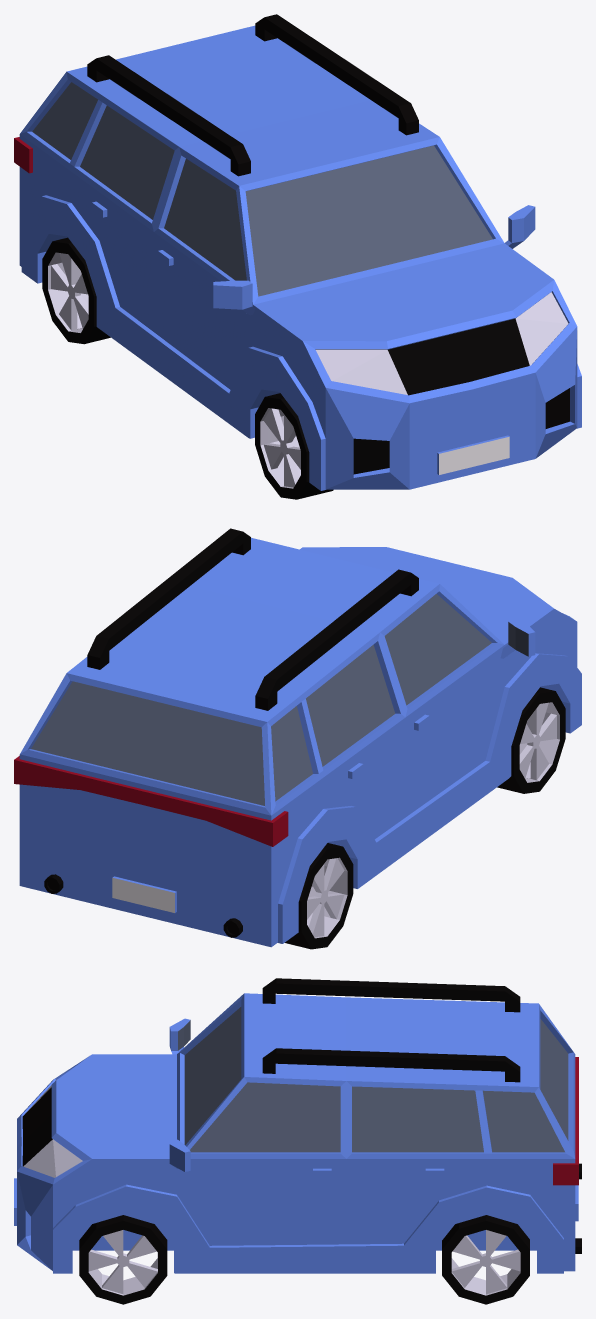
3 renders of one model, top to bottom at view 1: azimuth 30°, elevation 25°; view 2: azimuth 150°, elevation 25°; view 3: azimuth 270°, elevation 25°, orthographic. The views are drawn at different scales.
Parts seen in each view (by area): view 1: SUV, SUV wheel front right, SUV wheel rear right; view 2: SUV, SUV wheel rear right, SUV wheel front right; view 3: SUV, SUV wheel front left, SUV wheel rear left.
Boxes of the visible parts, x1,y1,x2,y2 form: SUV: (14,14,581,490); SUV wheel front right: (255,393,333,499); SUV wheel rear right: (42,237,110,344); SUV: (14,528,581,947); SUV wheel rear right: (285,843,353,949); SUV wheel front right: (497,687,565,793); SUV: (14,978,581,1273); SUV wheel front left: (79,1215,167,1304); SUV wheel rear left: (442,1215,529,1304).
Bounding box in the file's own units: 2.81 × 2.3 × 5.04.
